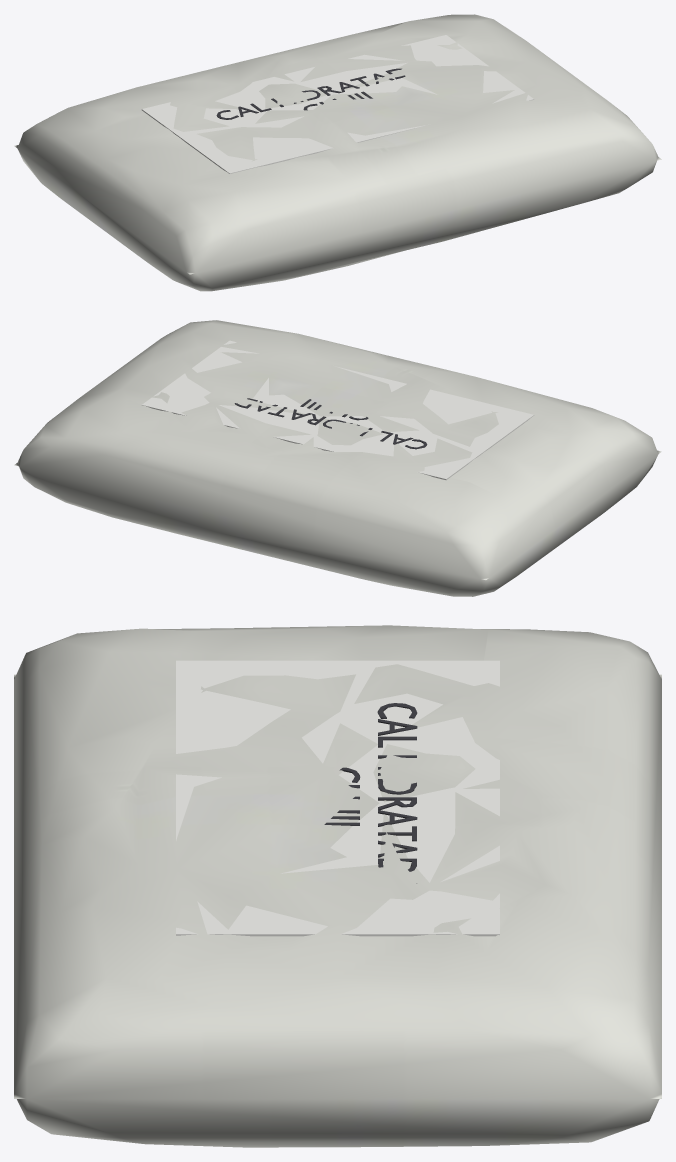
Rendered from ALV-ARG-002_lod1.glb.
The picture shows the model from 3 angles, top to bottom: view 1: azimuth 30°, elevation 25°; view 2: azimuth 150°, elevation 25°; view 3: azimuth 270°, elevation 25°; orthographic projection. The views are drawn at different scales.
Parts seen in each view (by area): view 1: ALV-ARG-002_saco, ALV-ARG-002_faixa, ALV-ARG-002_texto; view 2: ALV-ARG-002_saco, ALV-ARG-002_faixa, ALV-ARG-002_texto; view 3: ALV-ARG-002_saco, ALV-ARG-002_faixa, ALV-ARG-002_texto.
Boxes of the visible parts, x1=… form: ALV-ARG-002_saco: x1=14, y1=14, x2=661, y2=291; ALV-ARG-002_faixa: x1=141, y1=35, x2=534, y2=173; ALV-ARG-002_texto: x1=216, y1=68, x2=405, y2=119; ALV-ARG-002_saco: x1=14, y1=320, x2=661, y2=596; ALV-ARG-002_faixa: x1=142, y1=340, x2=534, y2=480; ALV-ARG-002_texto: x1=234, y1=398, x2=427, y2=449; ALV-ARG-002_saco: x1=14, y1=625, x2=661, y2=1147; ALV-ARG-002_faixa: x1=176, y1=660, x2=499, y2=936; ALV-ARG-002_texto: x1=324, y1=703, x2=417, y2=883.
Size of the model in its own units: 0.527 by 0.1084 by 0.34.
Materials: 3 (1 with a texture image).
